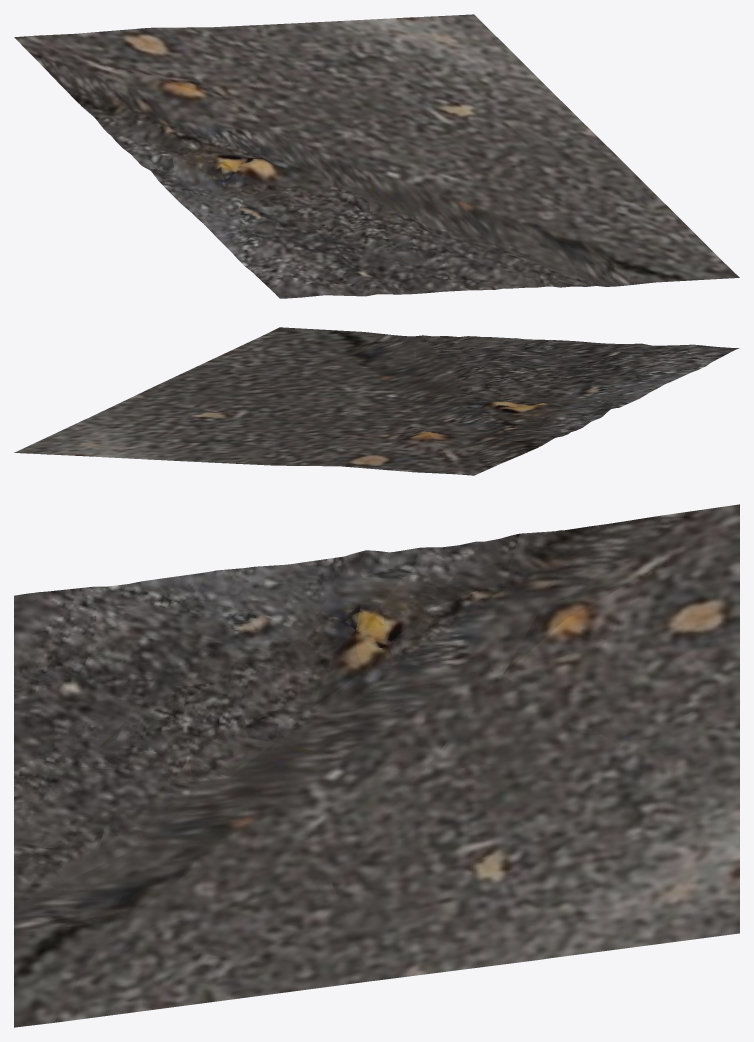
3 views of the same model, one above another, from view 1: azimuth 30°, elevation 25°; view 2: azimuth 150°, elevation 25°; view 3: azimuth 270°, elevation 25° (orthographic). The views are drawn at different scales.
Size of the model in its own units: 0.8374 by 0.2755 by 0.8374.
3 materials, 3 textured.
